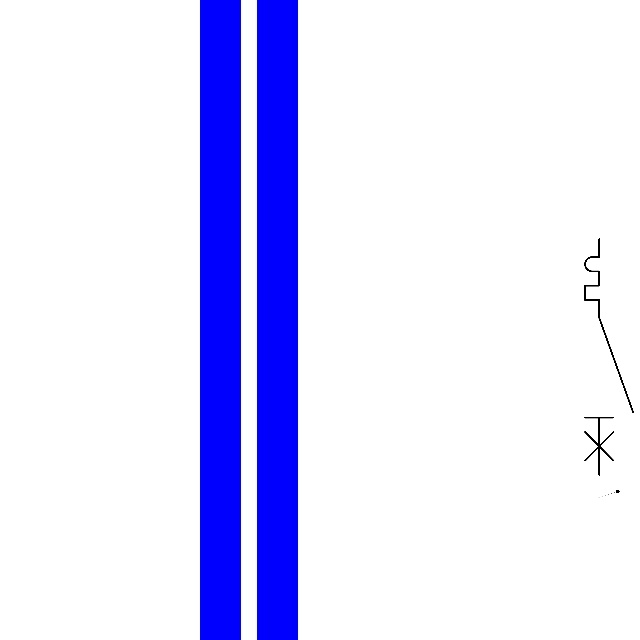interruptor_termomagnetico: (579, 233, 639, 481)
